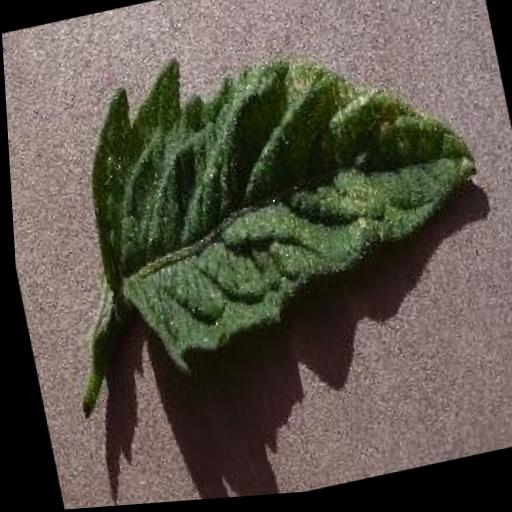Spider Mites: (63, 6, 501, 392)
